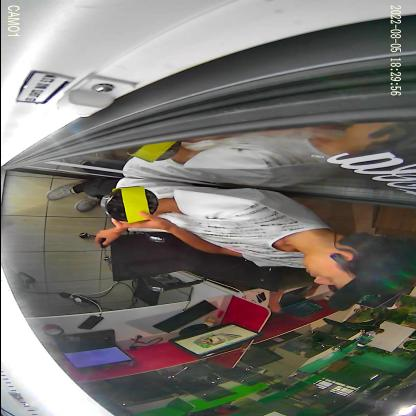yellow: (99, 186, 158, 223)
